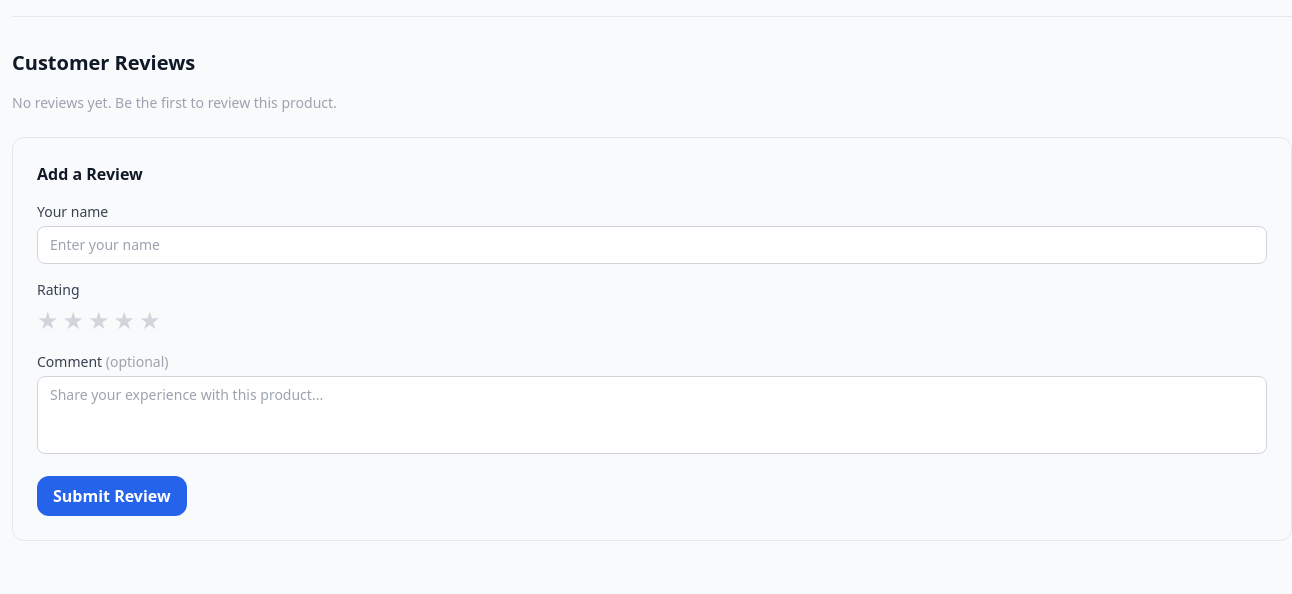
Test: ReviewSection › shows validation error when submitting without name or rating
Step 1. Click the button "Submit Review" → coordinates (112, 496), box [37, 476, 187, 516]
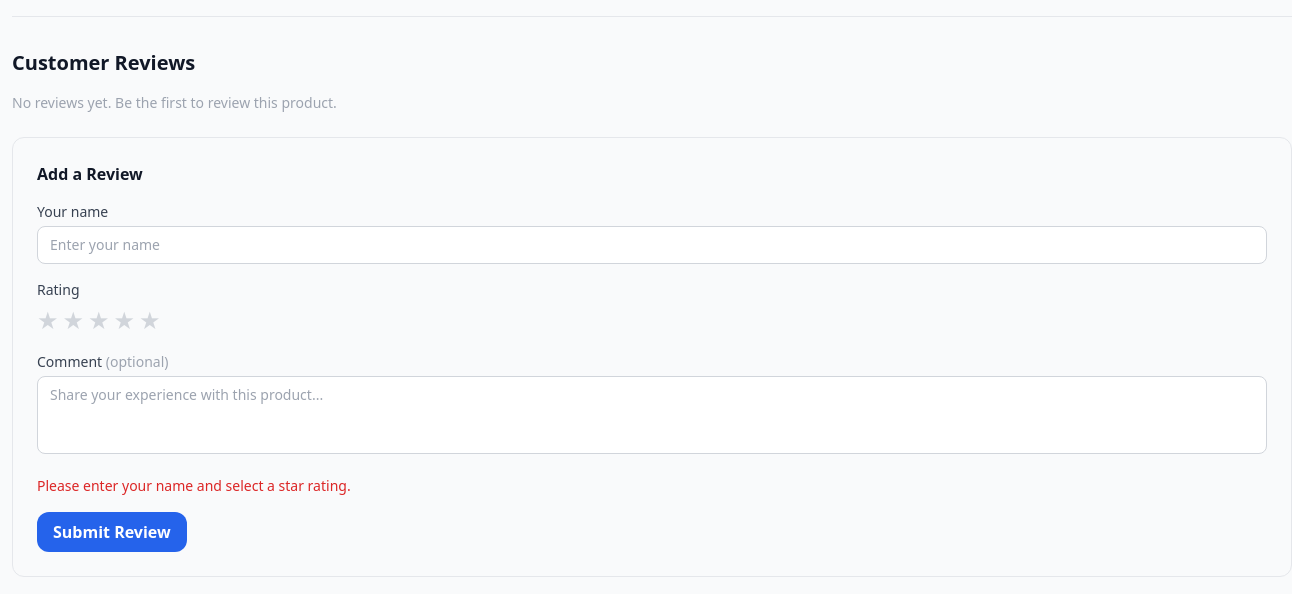
Now the text "Please enter your name and select a star rating." is shown, box [37, 476, 351, 495]
